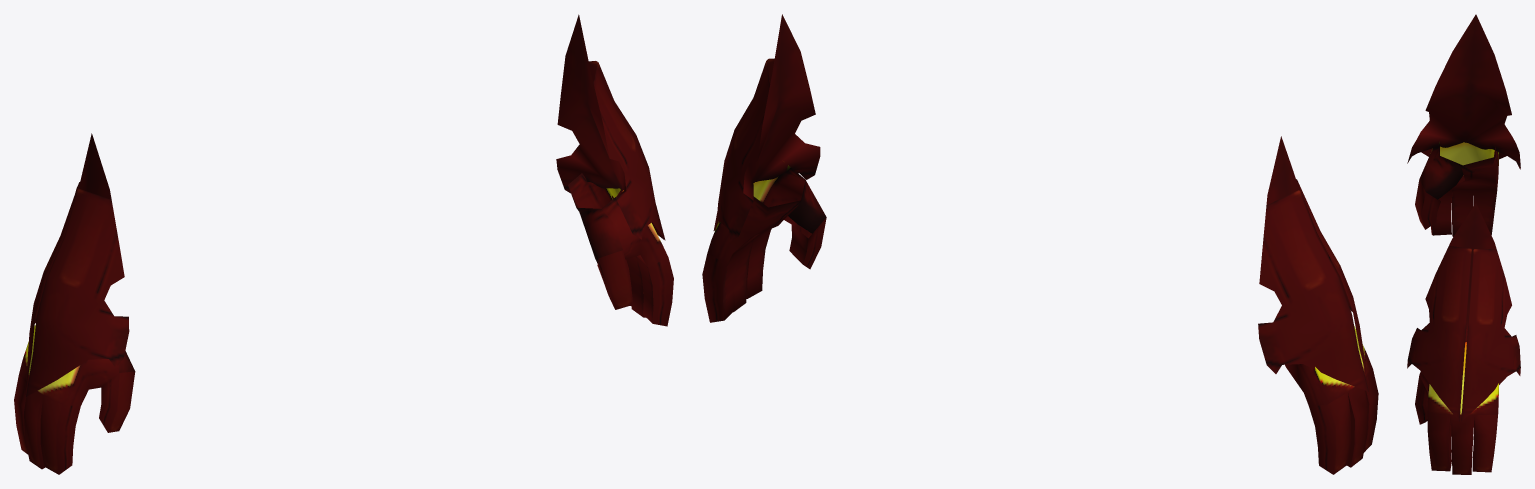
Rendered from hum_caster_07_9d953b6c.glb.
The picture shows the model from 3 angles, left to right: view 1: azimuth 30°, elevation 25°; view 2: azimuth 150°, elevation 25°; view 3: azimuth 270°, elevation 25°; orthographic projection. The views are drawn at different scales.
Size of the model in its own units: 1.74 by 0.8043 by 0.3361.
1 material, 1 textured.
